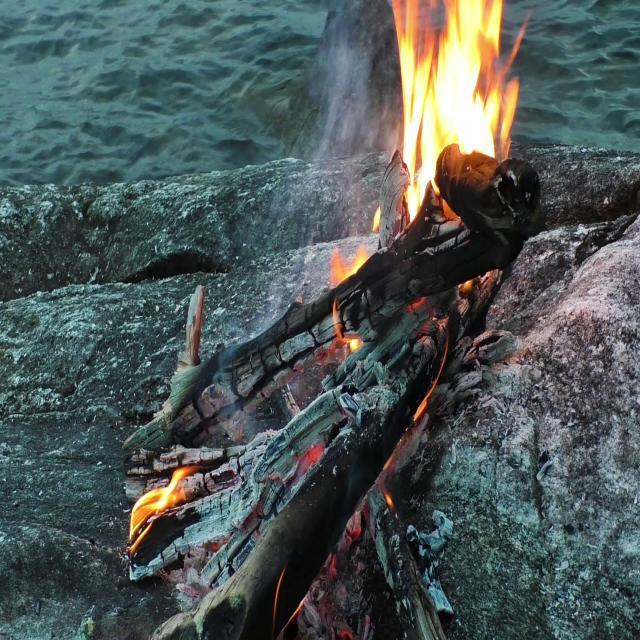Fire: (392, 0, 527, 212), (290, 14, 396, 282), (126, 461, 192, 542)
